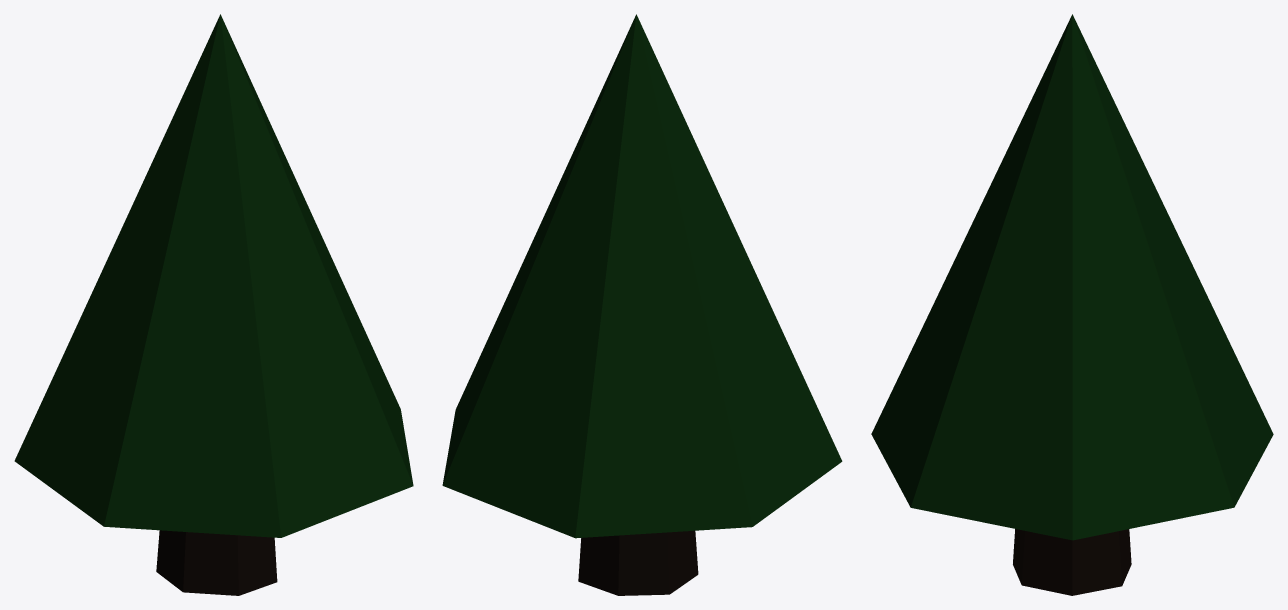
File: Evergreen_Tree_LOD3.FBX
3 renders of one model, left to right at view 1: azimuth 30°, elevation 25°; view 2: azimuth 150°, elevation 25°; view 3: azimuth 270°, elevation 25°, orthographic.
Parts seen in each view (by area): view 1: Evergreen_Trees_LOD3; view 2: Evergreen_Trees_LOD3; view 3: Evergreen_Trees_LOD3.
Boxes of the visible parts, box(x1,y1,x2,y2) form: Evergreen_Trees_LOD3: box(14, 14, 413, 595); Evergreen_Trees_LOD3: box(442, 14, 842, 595); Evergreen_Trees_LOD3: box(871, 14, 1273, 595).
Bounding box in the file's own units: 266 × 414 × 272.
